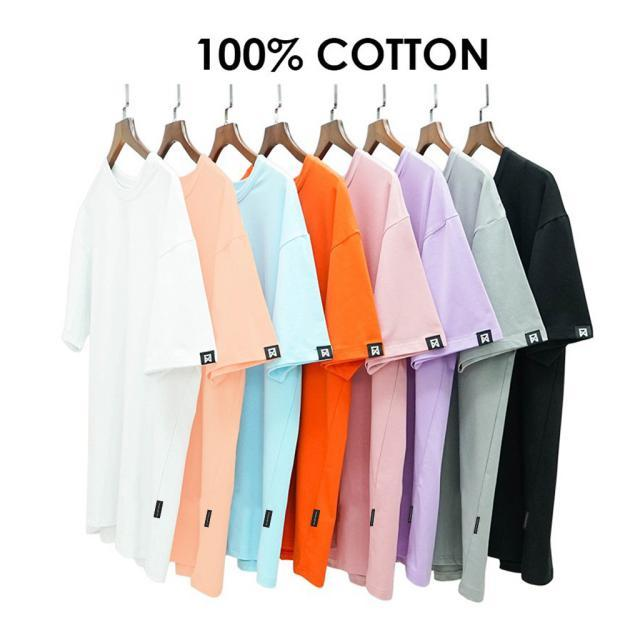Shirt: (312, 146, 510, 586), (58, 150, 224, 586), (402, 141, 547, 604), (134, 150, 282, 594), (309, 147, 449, 602), (464, 144, 602, 590), (210, 149, 333, 592), (263, 155, 388, 589)
